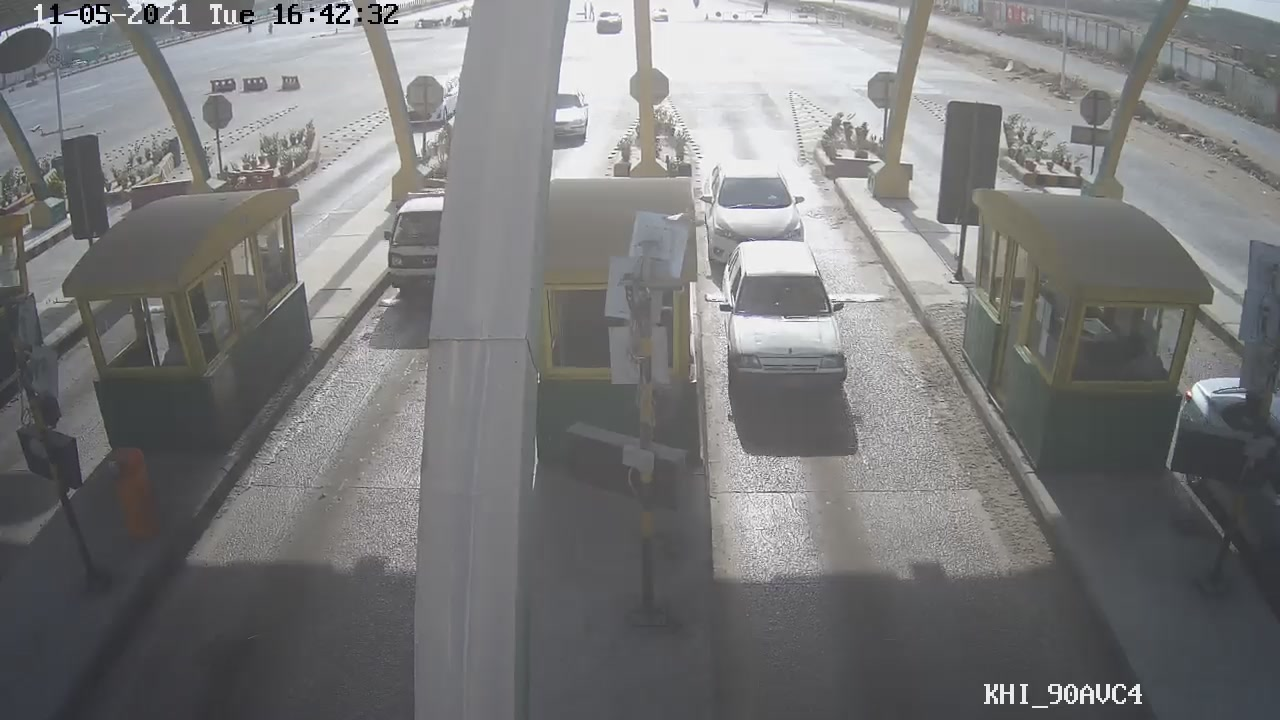F1: (711, 232, 859, 403)
